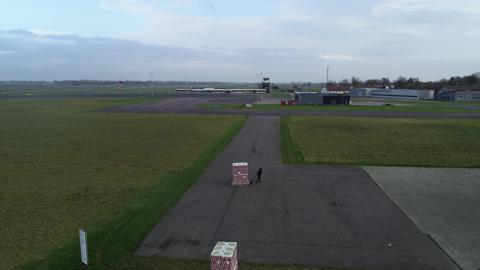RockwoolPallet: (231, 160, 251, 186)
